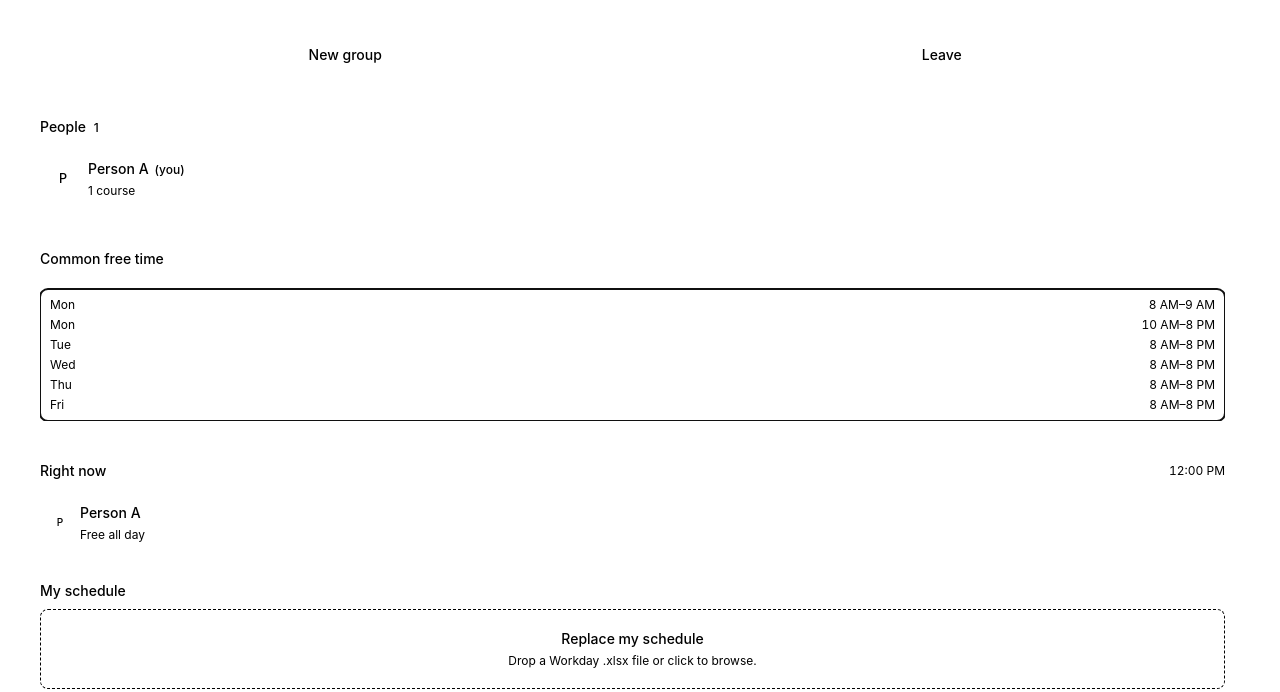
Test: ScheduleApp controls › uses flat, capped free-time states and all enabled-person derivatives
(page scrolled)
Expected: the list named "Common free-time intervals" is shown, [50,297,1215,413]
Expected: the element showing "Right now 12:00 PM P Person A Free all day" is shown, [40,437,1225,565]
Click the checkbox named "Show Person A on the calendar" at (122, 179), box [59,160,185,198]
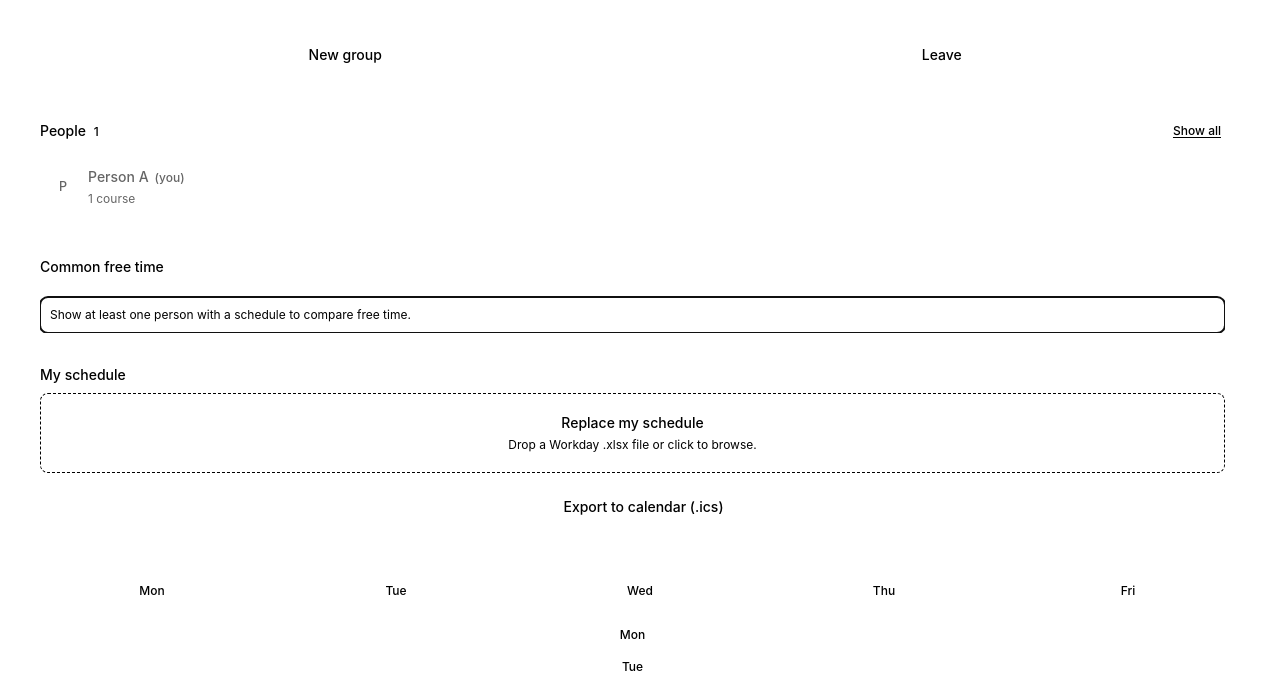
Expected: the text "Show at least one person with a schedule to compare free time." is shown, [50,307,411,322]
Click the checkbox named "Show Person A on the calendar" at (122, 187), box [59,168,185,206]
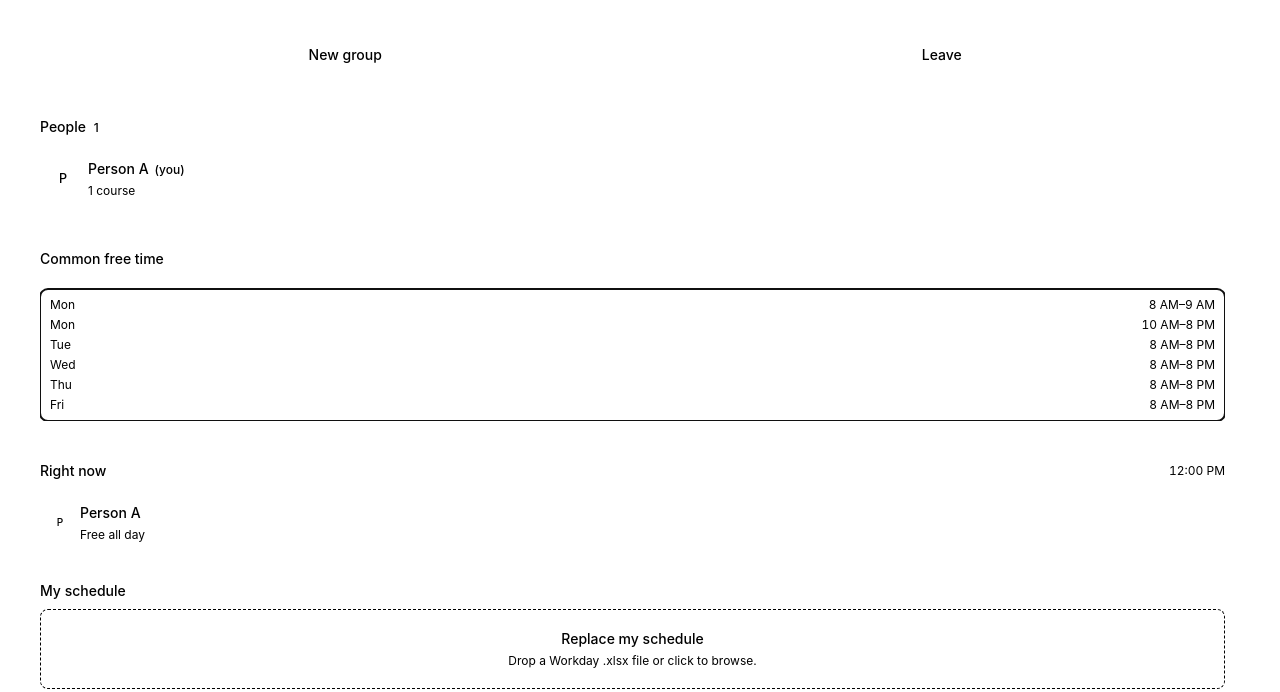
Expected: the element "Right now" shows "Person A", [80,504,141,521]
